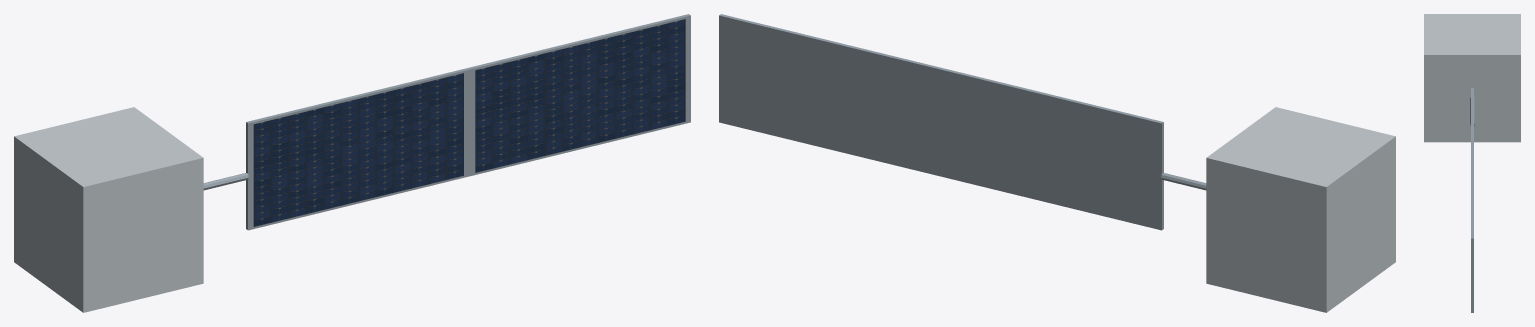
File: ref-shiyan-24c-01-58650.glb
3 renders of one model, left to right at view 1: azimuth 30°, elevation 25°; view 2: azimuth 150°, elevation 25°; view 3: azimuth 270°, elevation 25°, orthographic. The views are drawn at different scales.
Parts seen in each view (by area): view 1: Photovoltaic laminates (×2), Spacecraft body, Array frame (×2); view 2: Array frame (×2), Spacecraft body; view 3: Spacecraft body, Array frame (×2).
Part boxes in pixels (box(x1,y1,x2,y2)): Photovoltaic laminates (×2): box(253, 19, 685, 226); Spacecraft body: box(14, 107, 203, 312); Array frame (×2): box(246, 14, 690, 230); Array frame (×2): box(719, 14, 1163, 230); Spacecraft body: box(1206, 107, 1395, 312); Spacecraft body: box(1424, 14, 1520, 142); Array frame (×2): box(1471, 88, 1473, 312).
Bounding box in the file's own units: 8 × 1.5 × 1.5.
Materials: 3 (1 with a texture image).
